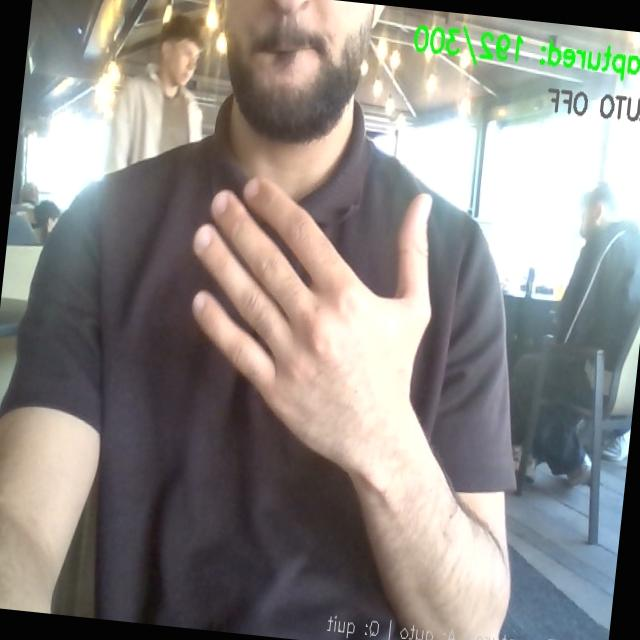Hand: (193, 179, 431, 471)
